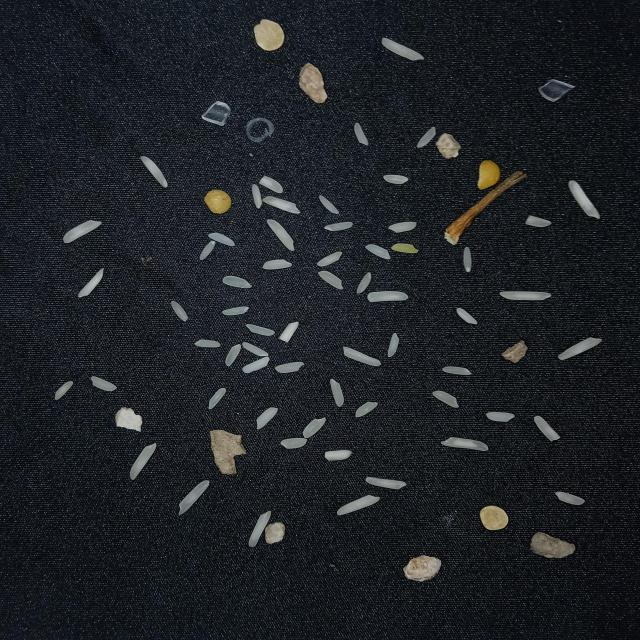Broken: (534, 416, 561, 442), (259, 175, 283, 194), (368, 291, 408, 302), (279, 322, 299, 343), (525, 216, 552, 228), (390, 243, 419, 254)
Full: (568, 180, 601, 219), (380, 36, 426, 62), (178, 480, 210, 515), (129, 443, 157, 480), (558, 337, 602, 360), (266, 219, 295, 252), (63, 220, 102, 243), (140, 156, 168, 188), (248, 511, 272, 547), (337, 495, 380, 515), (342, 346, 381, 366), (78, 268, 104, 298), (441, 437, 488, 452), (262, 196, 301, 214), (366, 477, 407, 490), (432, 390, 460, 409), (499, 291, 552, 301), (317, 270, 343, 290), (256, 407, 278, 430), (242, 356, 270, 374), (318, 194, 340, 215), (303, 418, 326, 438), (416, 126, 436, 148), (555, 492, 585, 506), (365, 244, 391, 260), (317, 251, 343, 267), (330, 378, 344, 407), (242, 342, 269, 357), (91, 376, 117, 391), (208, 232, 235, 246), (170, 301, 188, 322), (208, 388, 226, 409), (225, 344, 242, 366), (355, 402, 378, 418), (388, 222, 418, 234), (222, 276, 252, 288), (245, 324, 275, 336), (356, 272, 372, 294), (354, 122, 368, 147), (55, 381, 73, 400), (457, 308, 478, 324), (262, 259, 292, 270), (200, 240, 216, 260), (275, 362, 304, 373), (486, 411, 515, 422), (252, 184, 264, 210), (388, 332, 400, 358), (280, 438, 308, 449), (442, 366, 472, 376), (325, 450, 352, 461), (324, 222, 353, 232), (383, 174, 409, 185), (222, 306, 250, 316), (463, 247, 473, 273), (194, 339, 221, 348)
